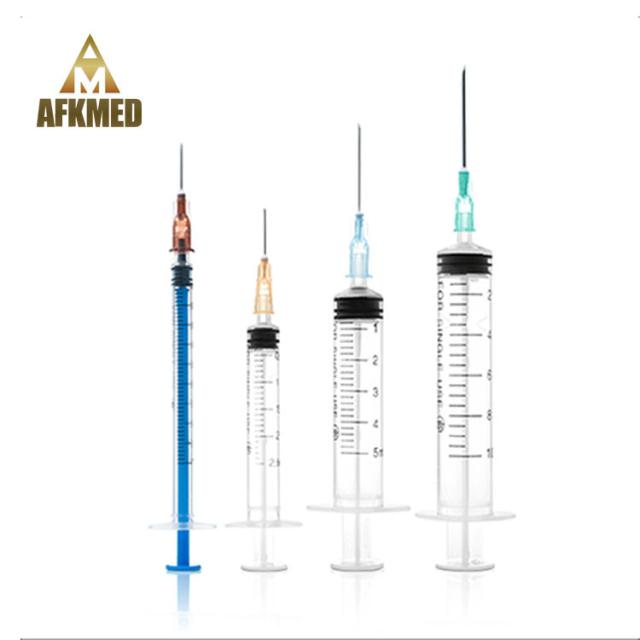B3: (414, 59, 532, 584), (307, 117, 412, 592), (132, 130, 221, 583), (222, 192, 303, 596)
